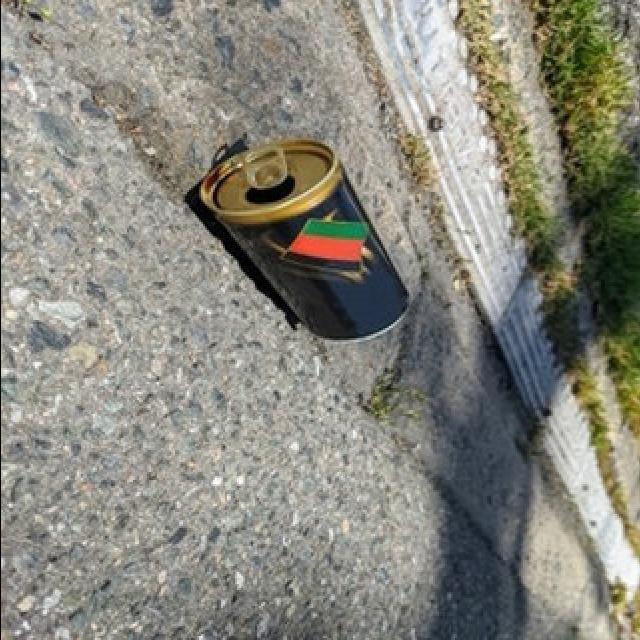can: (194, 134, 414, 344)
